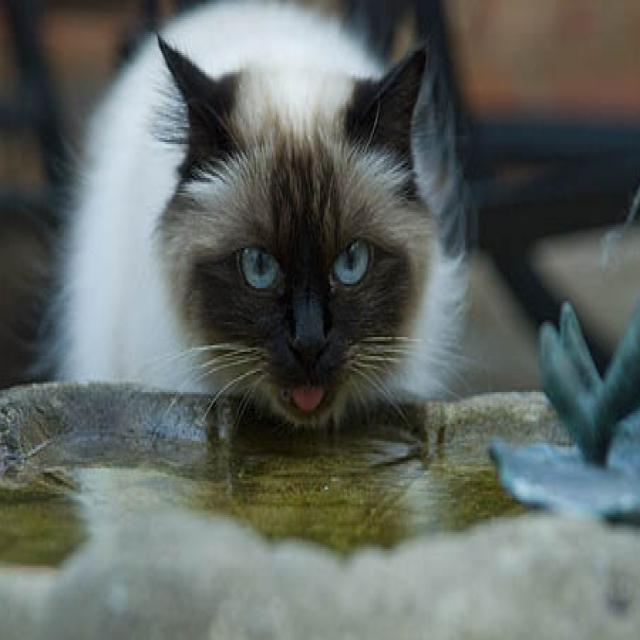Birman: (49, 0, 466, 441)
